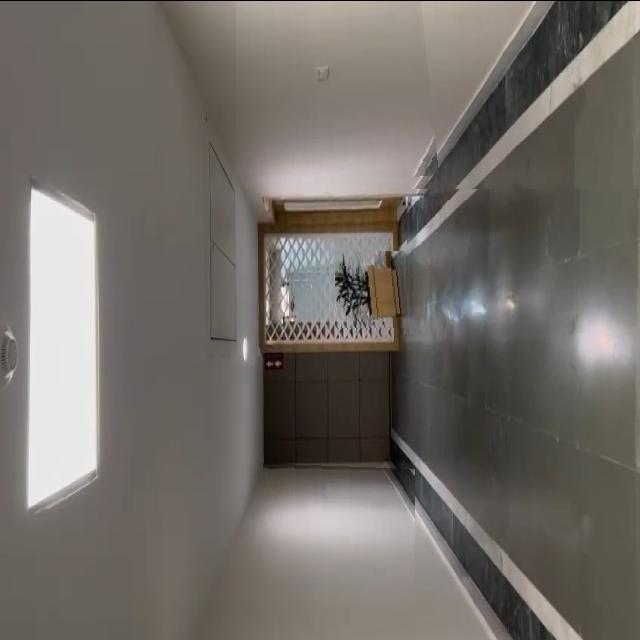floor: (402, 188, 640, 448)
furniture: (335, 250, 413, 333)
wall: (174, 459, 416, 640), (236, 0, 439, 189)
